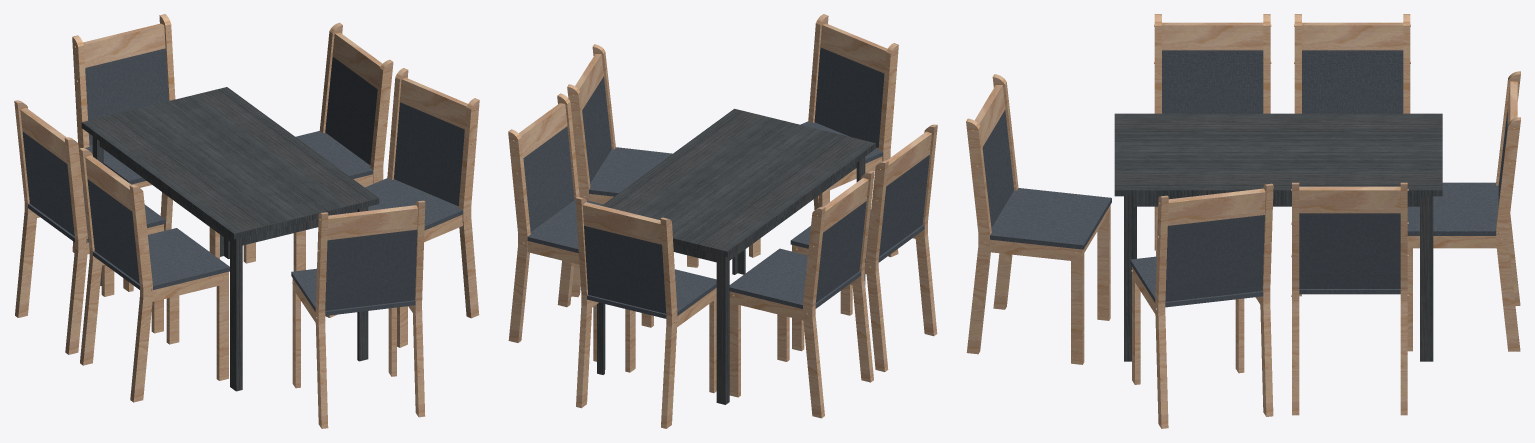
Rendered from comedorcomedormadesa.glb.
3 views of the same model, side by side, from view 1: azimuth 30°, elevation 25°; view 2: azimuth 150°, elevation 25°; view 3: azimuth 270°, elevation 25° (orthographic). The views are drawn at different scales.
Visible parts, largest first — view 1: dining room six chairs_0; view 2: dining room six chairs_0; view 3: dining room six chairs_0.
Part boxes in pixels (left/top/right/bottom): dining room six chairs_0: left=14, top=14, right=479, bottom=428; dining room six chairs_0: left=508, top=14, right=937, bottom=428; dining room six chairs_0: left=966, top=14, right=1520, bottom=428.
Size of the model in its own units: 1.8 by 1.06 by 2.3.
Materials: 3 (3 with a texture image).
